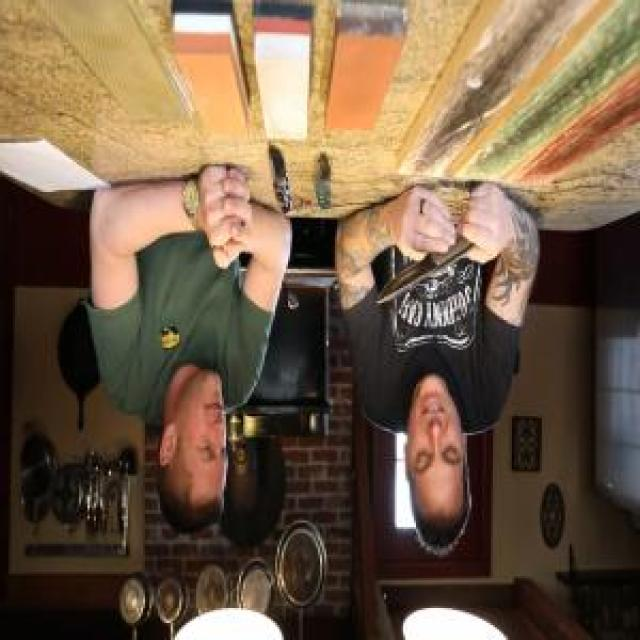knife: (366, 207, 497, 318)
